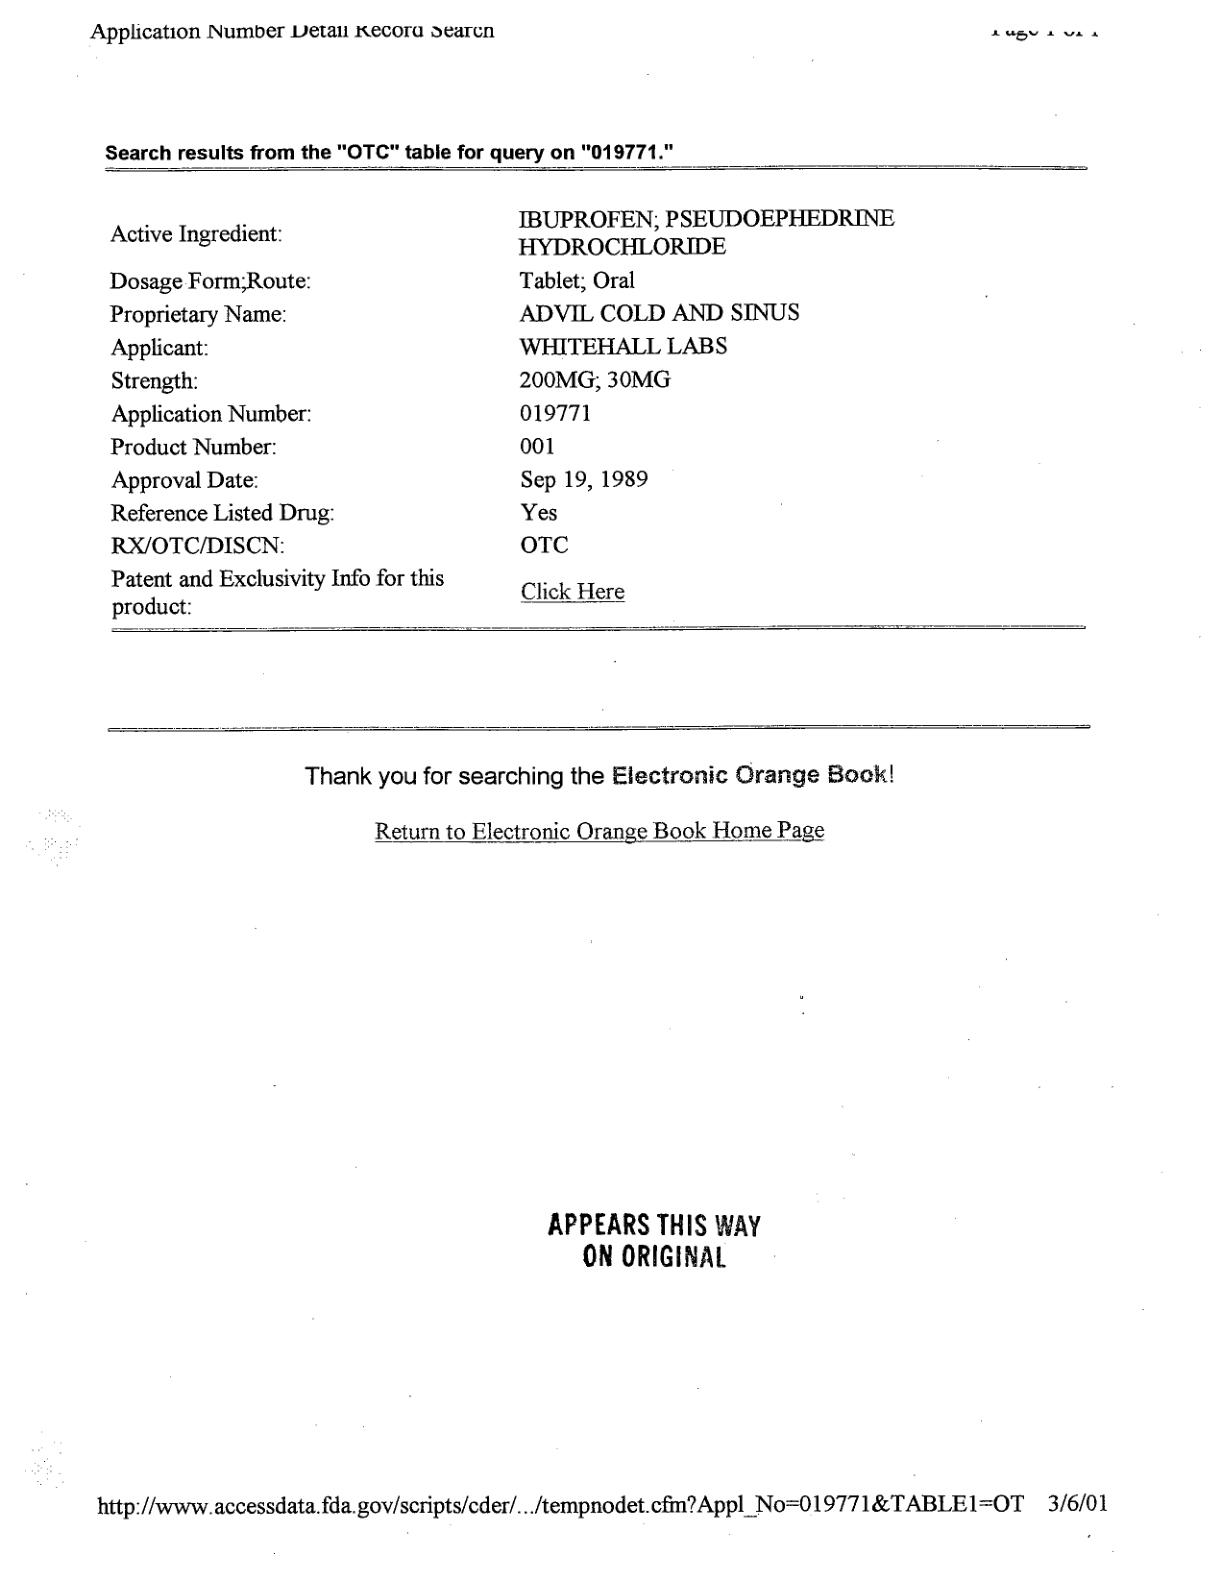partial_lined: (104, 165, 1087, 634)
